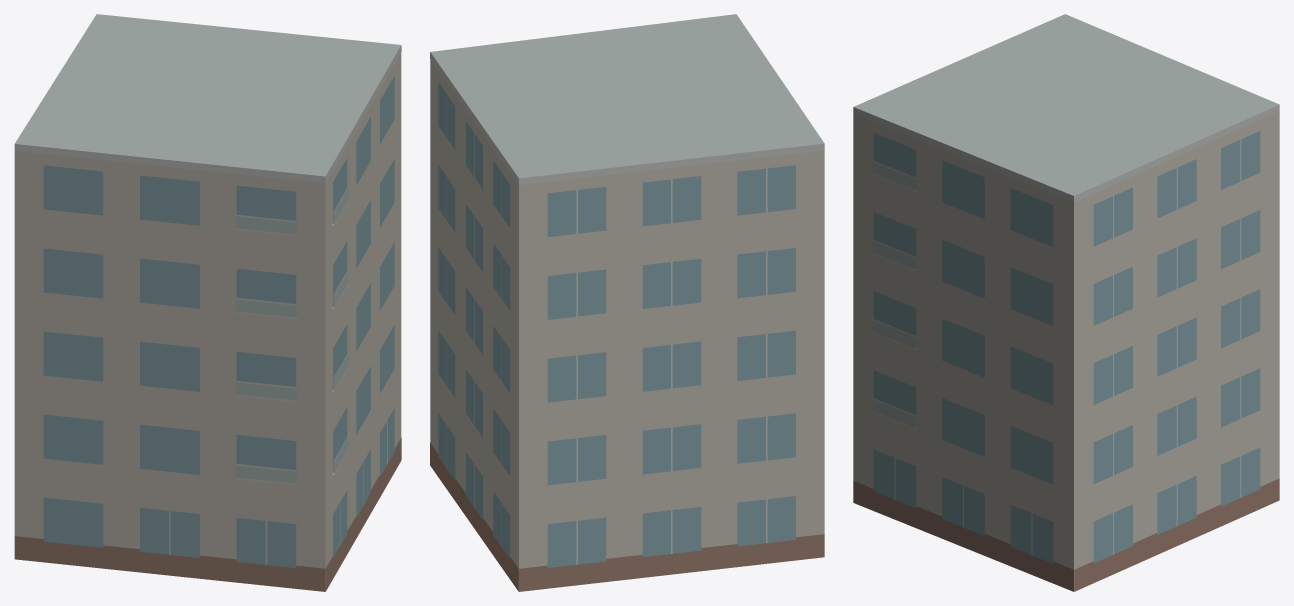
Rendered from survey-upis-33010005.glb.
3 views of the same model, side by side, from view 1: azimuth 30°, elevation 25°; view 2: azimuth 150°, elevation 25°; view 3: azimuth 270°, elevation 25° (orthographic). The views are drawn at different scales.
Parts seen in each view (by area): view 1: survey-upis-33010005.tmp; view 2: survey-upis-33010005.tmp; view 3: survey-upis-33010005.tmp.
Boxes of the visible parts, bbox=[...] form: survey-upis-33010005.tmp: bbox=[14, 14, 401, 591]; survey-upis-33010005.tmp: bbox=[430, 14, 824, 591]; survey-upis-33010005.tmp: bbox=[853, 14, 1279, 591].
Size of the model in its own units: 14.31 by 14.5 by 14.16.
